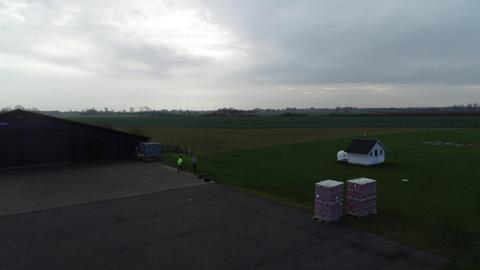RockwoolPallet: (347, 176, 377, 218)
